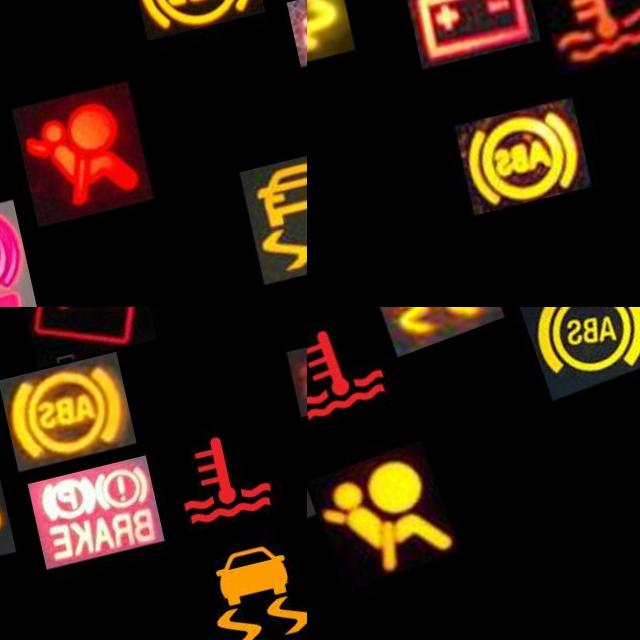Engine cooling system: (137, 425, 276, 566), (307, 307, 402, 455), (514, 0, 640, 93)
